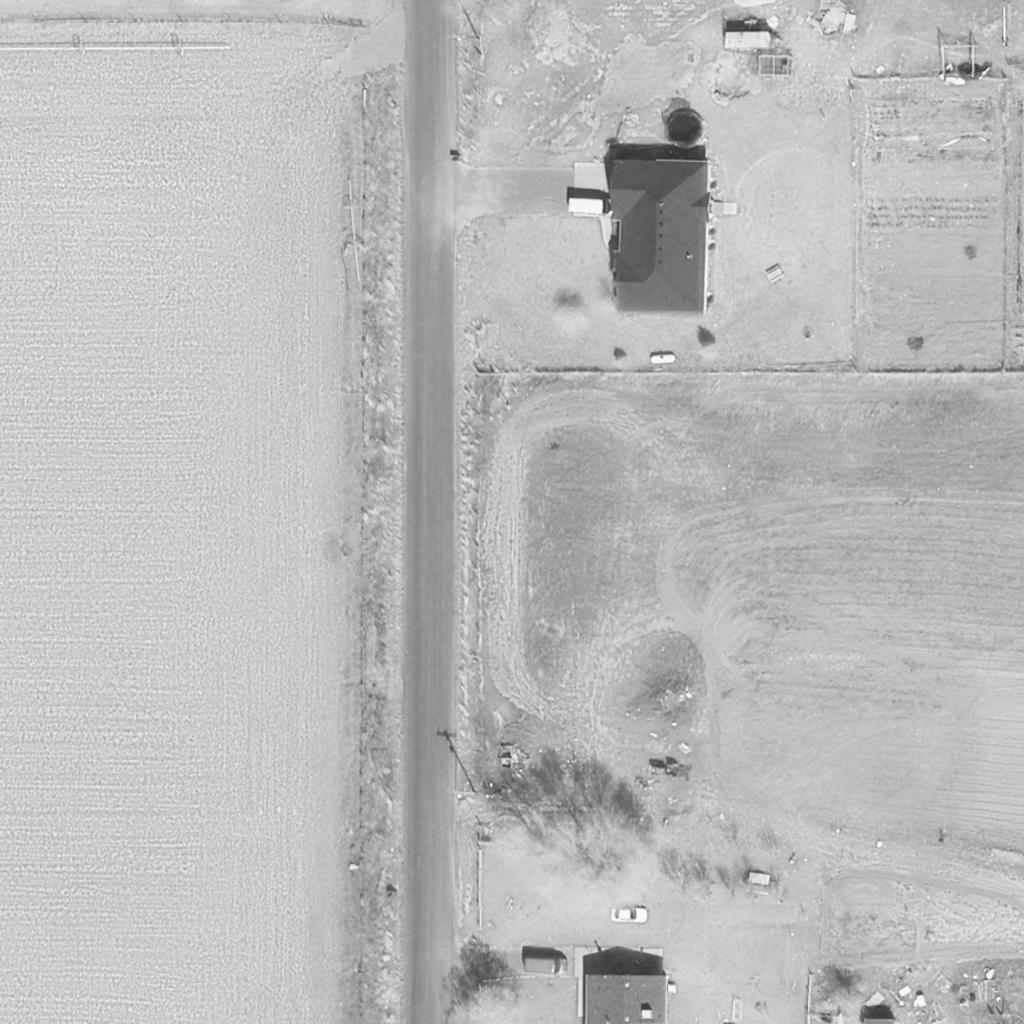vehicle: (566, 199, 614, 217), (521, 958, 569, 976), (610, 908, 650, 924)
